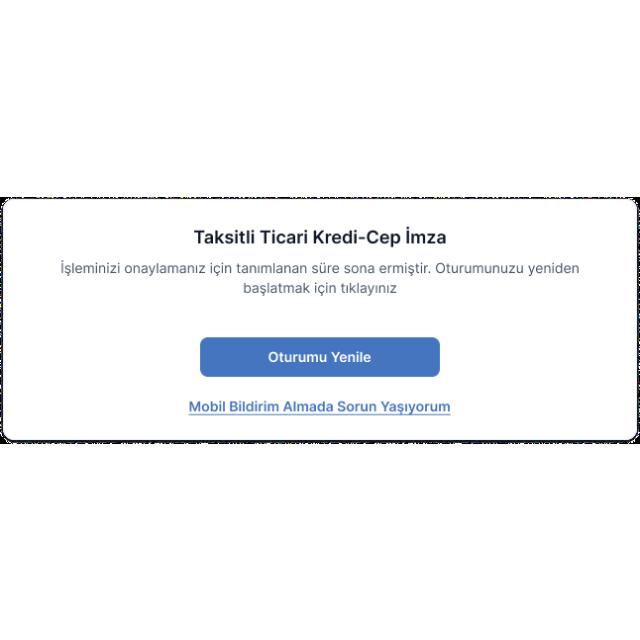QLabel: (56, 260, 580, 276), (188, 224, 448, 250), (186, 397, 454, 419), (242, 281, 398, 295), (266, 348, 378, 366)
VBtn: (200, 337, 440, 378)
VCard: (1, 196, 640, 444)
